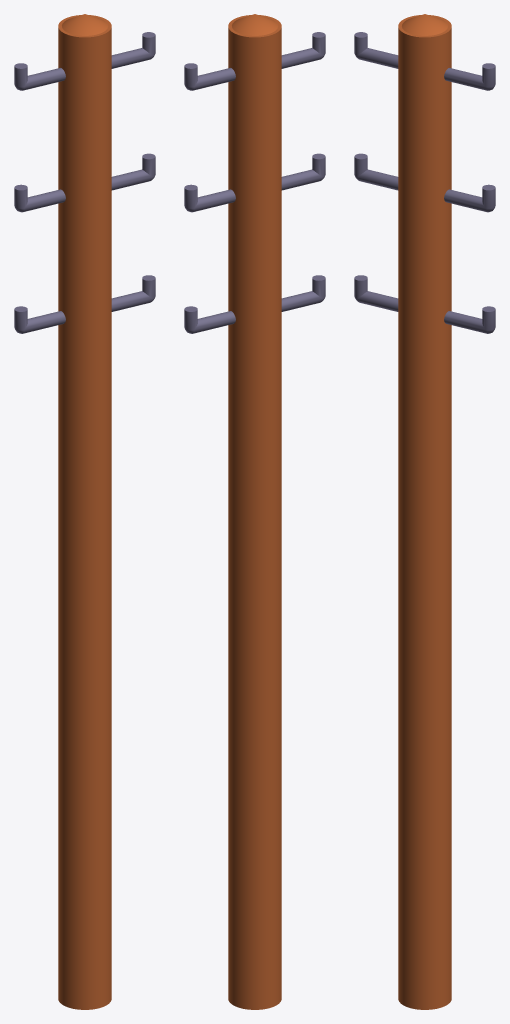
The model's file is Poteau electrique.fbx.
The picture shows the model from 3 angles, left to right: view 1: azimuth 30°, elevation 25°; view 2: azimuth 210°, elevation 25°; view 3: azimuth 330°, elevation 25°; orthographic projection.
Parts seen in each view (by area): view 1: poteau, truc sur les cotes; view 2: poteau, truc sur les cotes; view 3: poteau, truc sur les cotes.
Part boxes in pixels (x1,y1,x2,y2): poteau: (58, 14, 111, 1009); truc sur les cotes: (14, 32, 155, 333); poteau: (228, 14, 281, 1009); truc sur les cotes: (184, 32, 325, 333); poteau: (398, 14, 451, 1009); truc sur les cotes: (354, 32, 495, 333).
Size of the model in its own units: 40 by 120 by 810.
